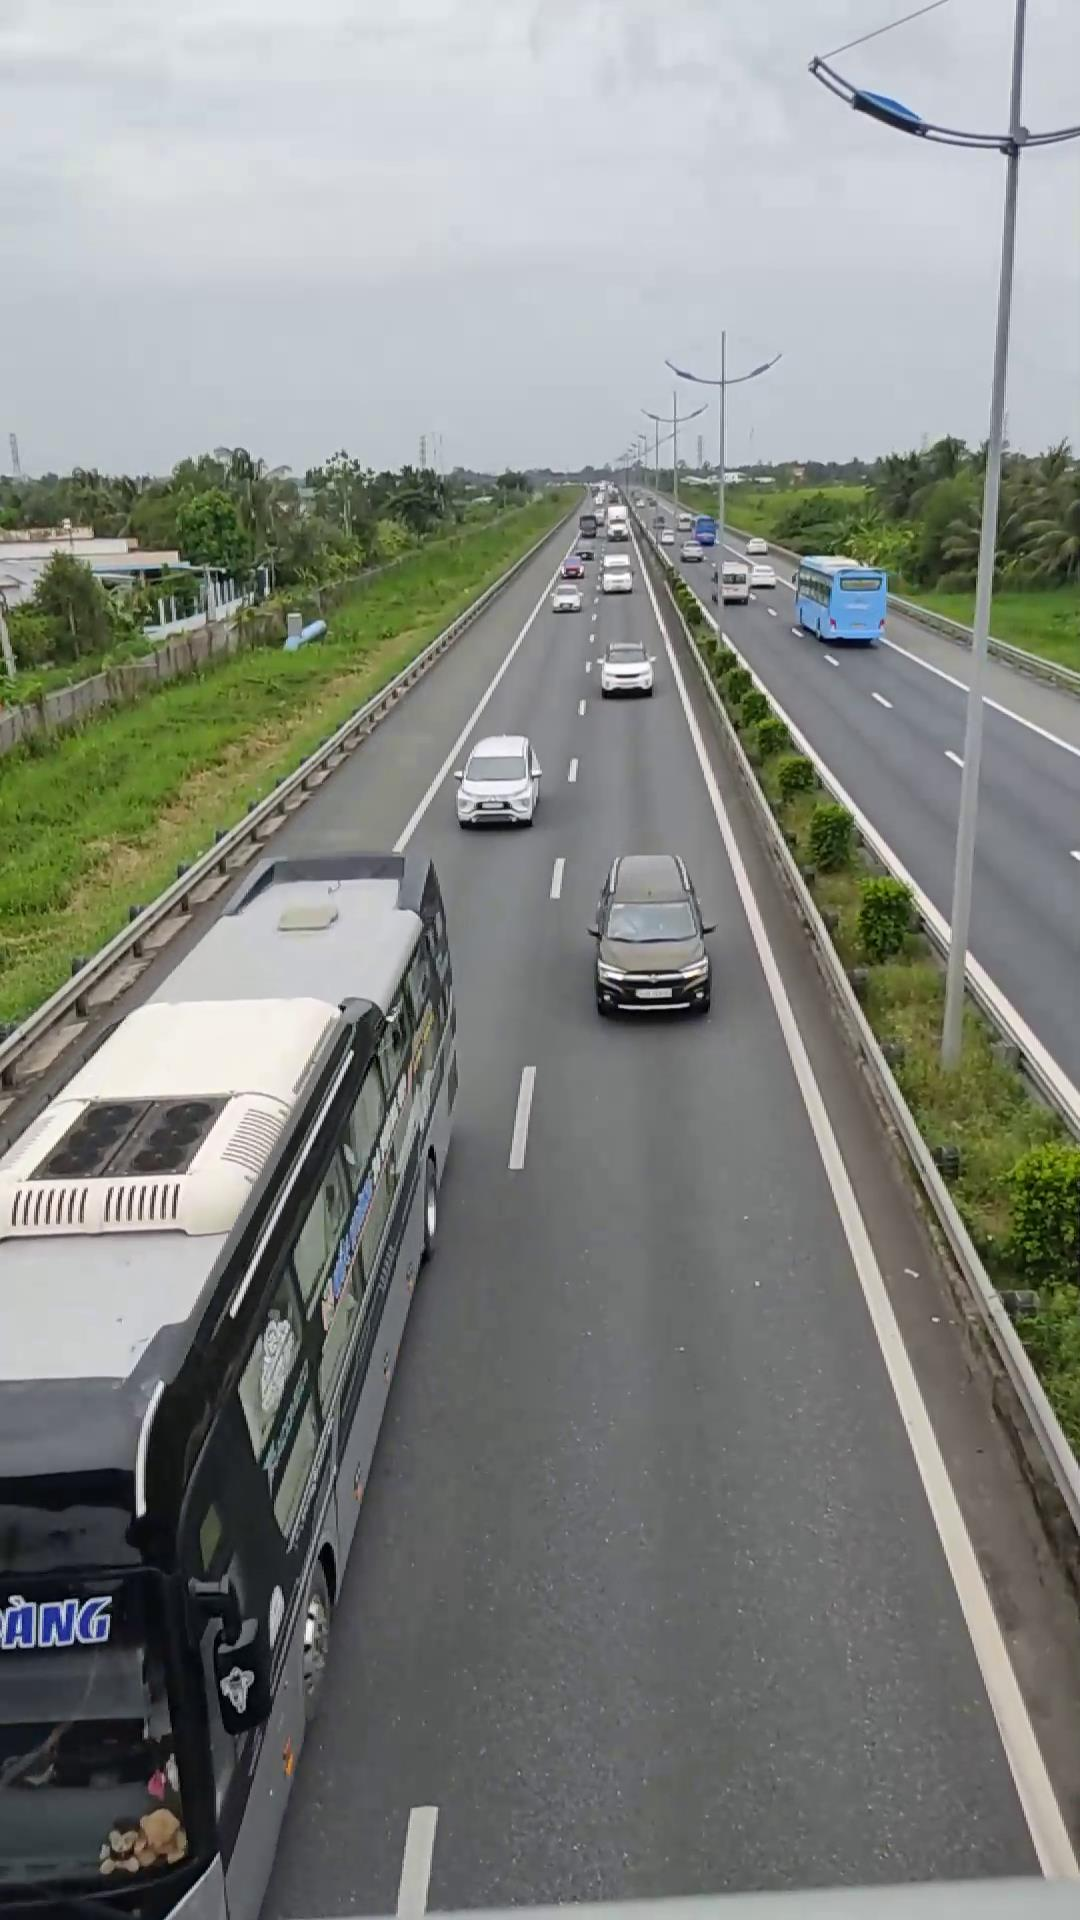bus: (0, 843, 465, 1910)
car: (587, 852, 713, 1015), (454, 734, 543, 827)
